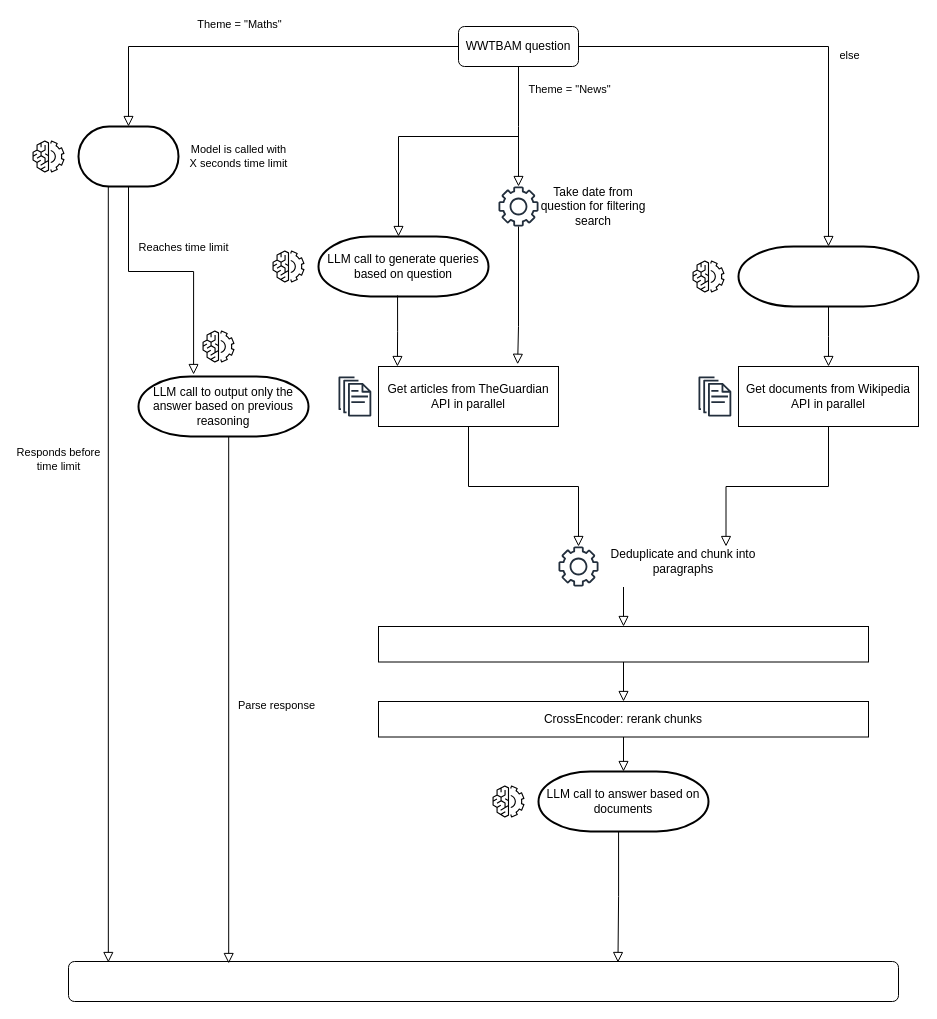
This 937x1019 diagram has some shape labels left out. The centre of each missing label's shape, as x and y in pixels:
"Answer" goes at pixel 483 981.
"BM25 prefiltering: takes best k chunks from all documents" goes at pixel 623 644.
"LLM call to generate Wikipedia queries based on question" goes at pixel 828 276.
"LLM thinking with math specific prompt" goes at pixel 128 156.
